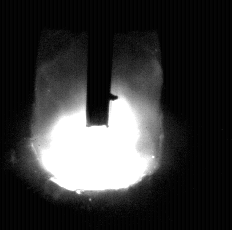arame: (87, 0, 110, 128)
poca: (31, 0, 163, 230)
